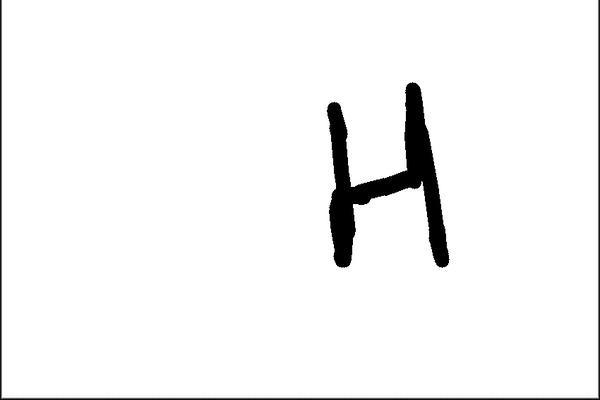H: (323, 77, 458, 271)
